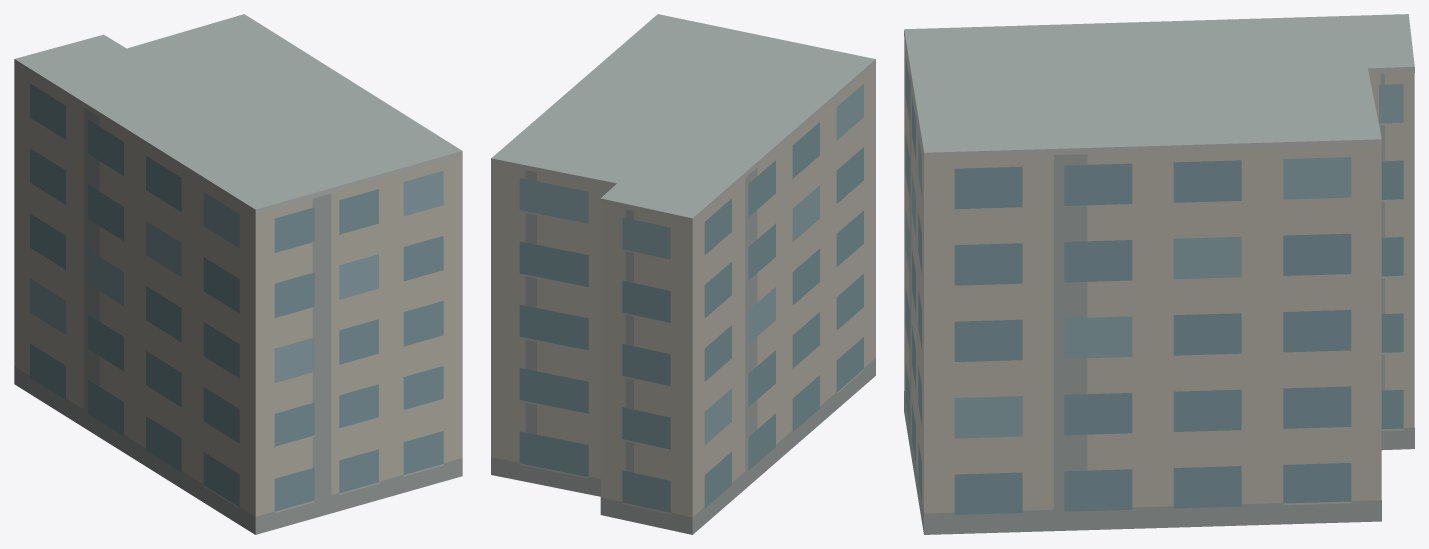
Rendered from survey-upis-33005572.glb.
3 views of the same model, side by side, from view 1: azimuth 30°, elevation 25°; view 2: azimuth 150°, elevation 25°; view 3: azimuth 270°, elevation 25° (orthographic). The views are drawn at different scales.
Visible parts, largest first — view 1: survey-upis-33005572.tmp; view 2: survey-upis-33005572.tmp; view 3: survey-upis-33005572.tmp.
Boxes of the visible parts, box(x1,y1,x2,y2) form: survey-upis-33005572.tmp: box(14, 14, 462, 534); survey-upis-33005572.tmp: box(491, 14, 875, 534); survey-upis-33005572.tmp: box(904, 14, 1414, 534).
Bounding box in the file's own units: 11.76 × 15.1 × 18.3.
